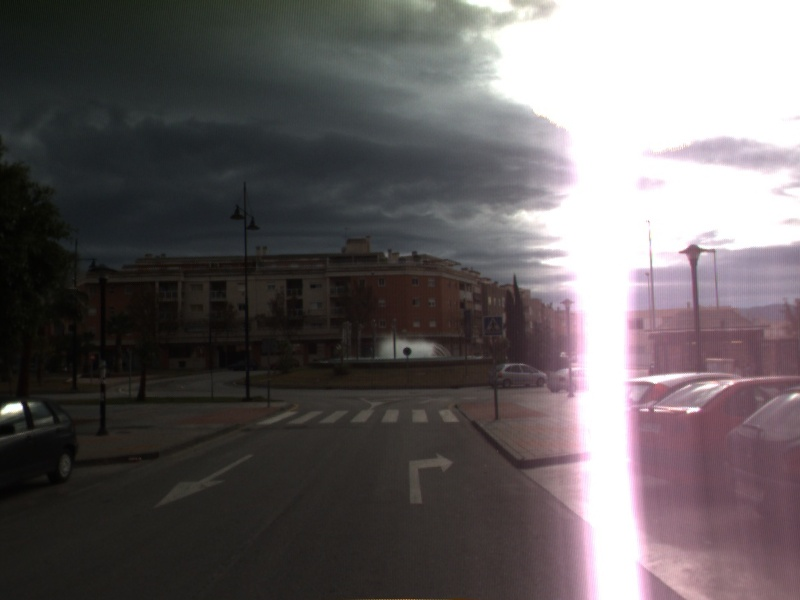RIGHT: (407, 451, 456, 506)
